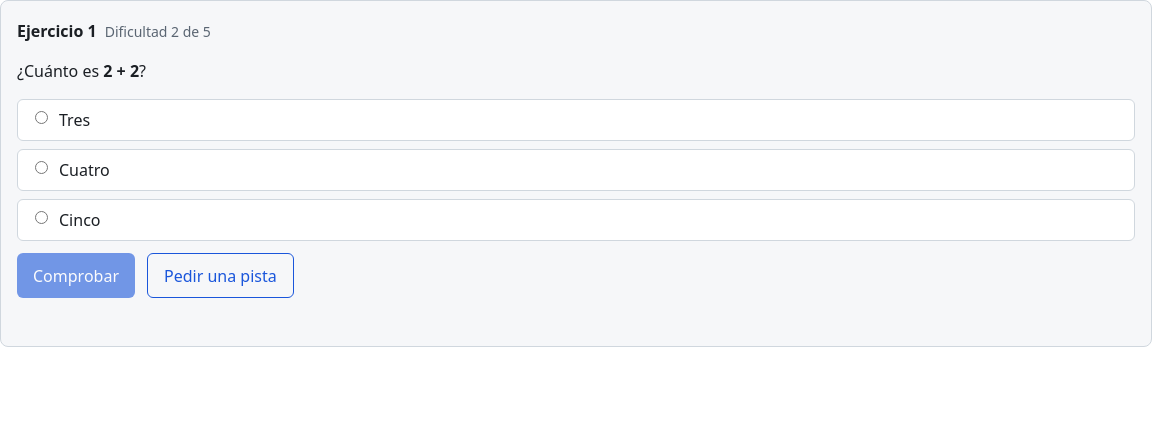
Scenario: ExerciseCard › multiple choice › sends the chosen option and shows the explanation when the answer is right
Click the radio button labelled "Cuatro".
click(42, 168)  # box [35,161,48,174]
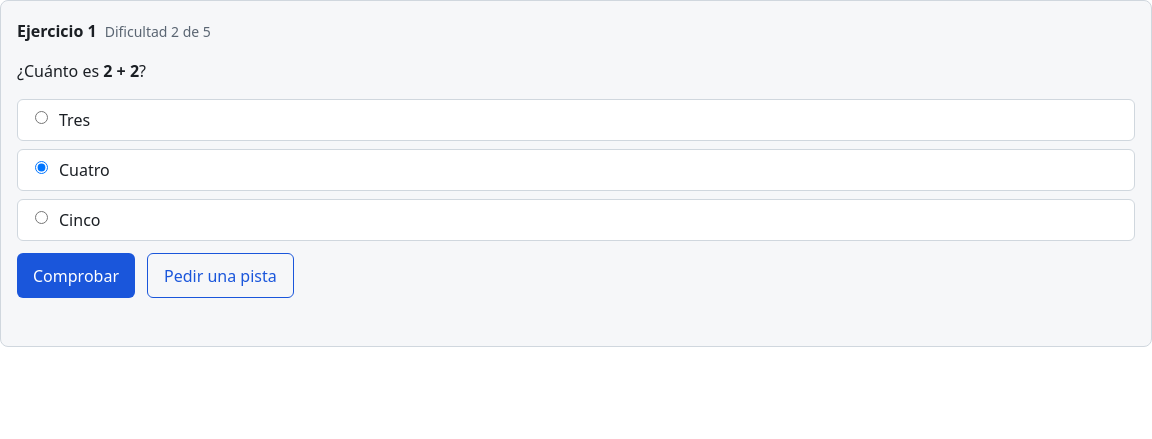
Check: the button "Comprobar" is enabled
Click the button "Comprobar".
click(76, 276)  # box [17,253,135,298]
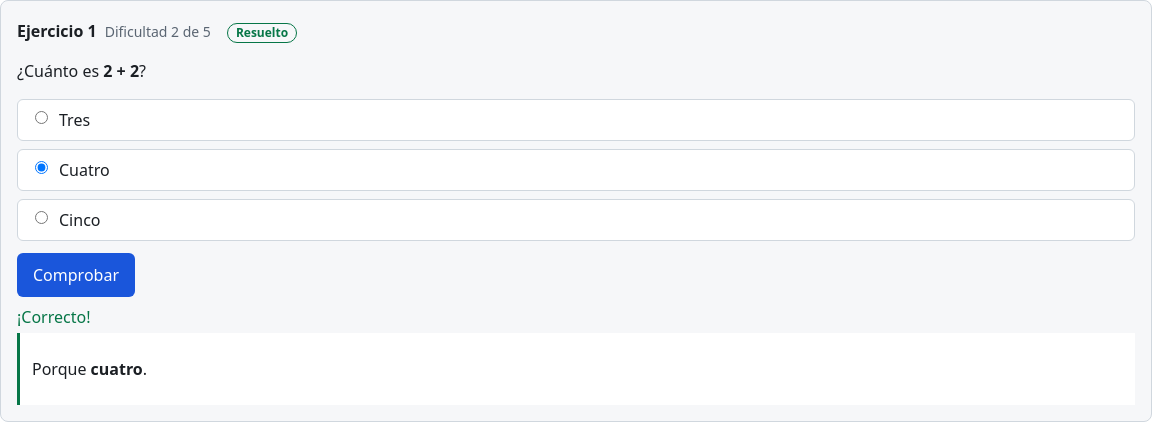
Check: the text "¡Correcto!" is shown, box [17,306,90,328]
Check: the text "cuatro" is shown, box [91,358,143,380]
Check: the text with class "badge" reads "Resuelto", box [236,24,288,41]
